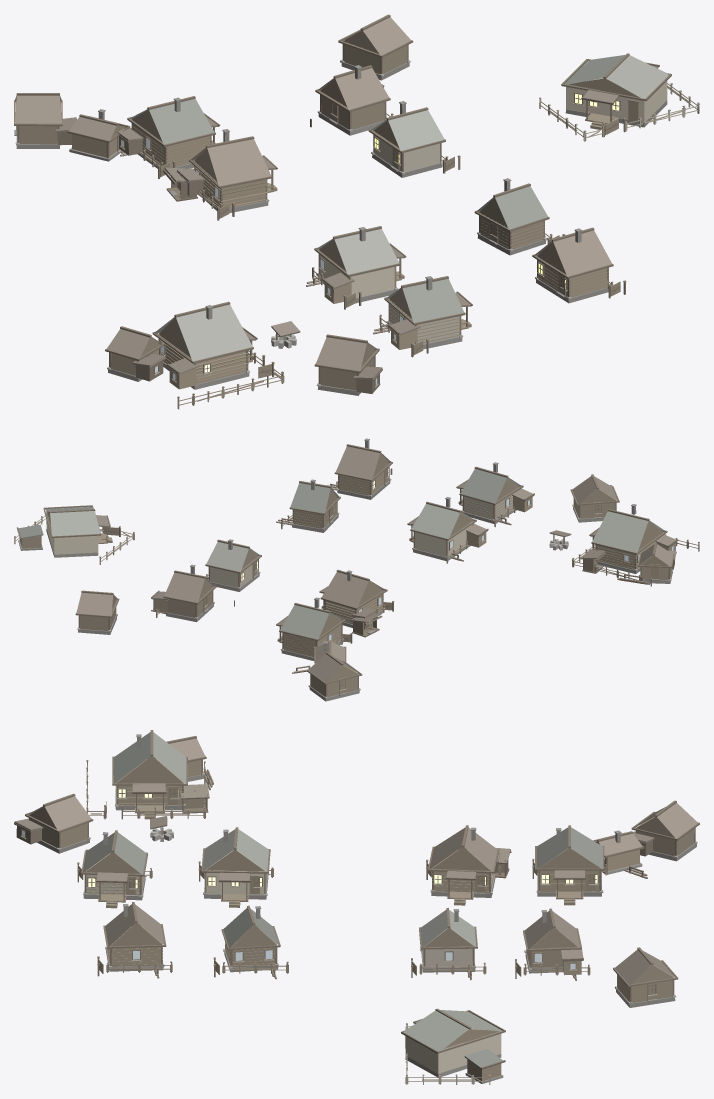
File: agentb_village_buildings_kit.glb
The picture shows the model from 3 angles, top to bottom: view 1: azimuth 30°, elevation 25°; view 2: azimuth 150°, elevation 25°; view 3: azimuth 270°, elevation 25°; orthographic projection. The views are drawn at different scales.
Visible parts, largest first — view 1: HouseBabai_Roof_SlabE, HouseA5_Roof_SlabE, HouseA3_Roof_SlabE, HouseA7_Roof_SlabE, HouseA1_Roof_SlabE, HouseA2_Roof_SlabW, Fap_Body, Fap_Roof_SlabW, HouseA6_Roof_SlabW, HouseA4_Roof_SlabW, HouseA8_Roof_SlabW, FarHouse1_Roof_SlabW (+18 smaller); view 2: HouseBabai_Roof_SlabW, Fap_Roof_SlabE, HouseA7_Roof_SlabW, HouseA3_Roof_SlabW, HouseA5_Roof_SlabW, HouseA2_Roof_SlabE, HouseA1_Roof_SlabW, Fap_Body, HouseA4_Roof_SlabE, HouseA3_Body, HouseA8_Roof_SlabE, HouseA6_Roof_SlabE (+13 smaller); view 3: Fap_Body, Fap_Roof_SlabW, HouseBabai_Roof_GableN, FarHouse3_Roof_SlabE, HouseBabai_Roof_SlabE, HouseBabai_Roof_SlabW, HouseA2_Body, HouseA6_Body, FarHouse2_Body, FarHouse1_Roof_SlabE, FarHouse1_Body, FarHouse3_Body (+23 smaller).
Boxes of the visible parts, x1,y1,x2,y2 form: HouseBabai_Roof_SlabE: [176, 304, 252, 361]; HouseA5_Roof_SlabE: [207, 139, 271, 185]; HouseA3_Roof_SlabE: [334, 228, 399, 274]; HouseA7_Roof_SlabE: [149, 98, 214, 144]; HouseA1_Roof_SlabE: [402, 279, 464, 322]; HouseA2_Roof_SlabW: [553, 230, 611, 276]; Fap_Body: [566, 61, 667, 122]; Fap_Roof_SlabW: [606, 55, 668, 98]; HouseA6_Roof_SlabW: [388, 110, 444, 150]; HouseA4_Roof_SlabW: [495, 186, 547, 229]; HouseA8_Roof_SlabW: [335, 68, 389, 109]; FarHouse1_Roof_SlabW: [14, 95, 61, 123]; HouseBabai_Roof_SlabW: [592, 511, 648, 552]; Fap_Roof_SlabE: [50, 511, 100, 536]; HouseA7_Roof_SlabW: [280, 605, 329, 639]; HouseA3_Roof_SlabW: [411, 503, 459, 538]; HouseA5_Roof_SlabW: [321, 572, 368, 607]; HouseA2_Roof_SlabE: [336, 446, 379, 479]; HouseA1_Roof_SlabW: [461, 468, 506, 503]; Fap_Body: [46, 506, 98, 554]; HouseA4_Roof_SlabE: [290, 483, 330, 513]; HouseA3_Body: [415, 520, 473, 556]; HouseA8_Roof_SlabE: [164, 572, 204, 602]; HouseA6_Roof_SlabE: [206, 542, 248, 571]; Fap_Body: [405, 1028, 501, 1073]; Fap_Roof_SlabW: [404, 1010, 468, 1051]; HouseBabai_Roof_GableN: [117, 756, 183, 783]; FarHouse3_Roof_SlabE: [45, 796, 91, 830]; HouseBabai_Roof_SlabE: [113, 732, 150, 783]; HouseBabai_Roof_SlabW: [153, 732, 186, 783]; HouseA2_Body: [107, 926, 162, 966]; HouseA6_Body: [422, 928, 473, 967]; FarHouse2_Body: [617, 965, 673, 1002]; FarHouse1_Roof_SlabE: [657, 803, 697, 838]; FarHouse1_Body: [636, 816, 694, 856]; FarHouse3_Body: [29, 815, 87, 848].
Size of the model in its own units: 75.4 by 6.89 by 67.84.
